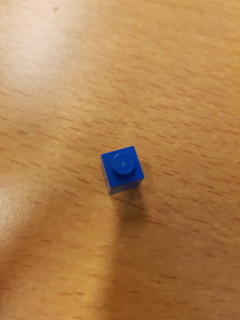1x1 blue: (98, 144, 146, 198)
